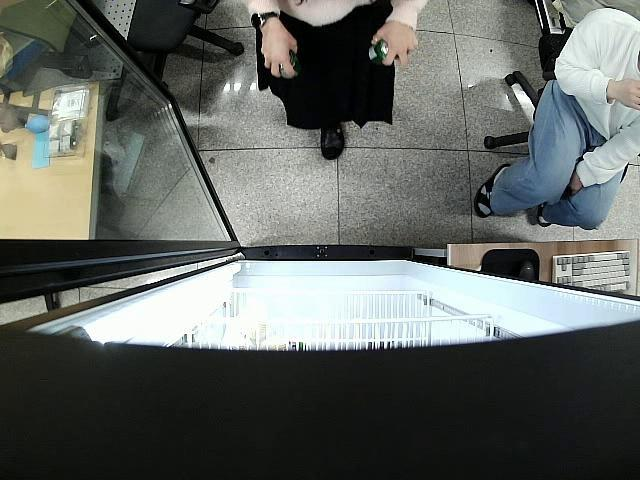12_chilsungCider: (274, 48, 300, 77), (368, 38, 396, 64)
